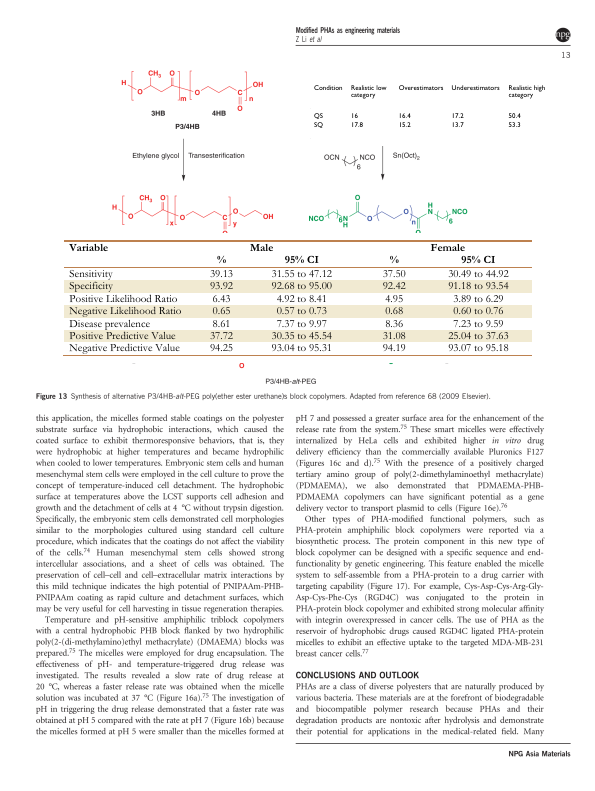borderless: (64, 238, 532, 355), (308, 82, 548, 140)
cell: (68, 306, 182, 318), (68, 343, 180, 355), (68, 293, 178, 305), (68, 331, 176, 343), (68, 318, 150, 330), (270, 269, 332, 281), (447, 269, 509, 281), (270, 281, 332, 293), (447, 281, 509, 293), (270, 331, 332, 343), (447, 331, 509, 343), (270, 343, 332, 355), (447, 343, 509, 355), (507, 84, 546, 100), (275, 293, 327, 305), (452, 293, 504, 305), (275, 306, 327, 318), (452, 306, 504, 318), (275, 318, 327, 330), (452, 318, 504, 330), (349, 84, 387, 100), (68, 269, 113, 281), (68, 281, 113, 293), (450, 84, 500, 93), (397, 84, 444, 93), (68, 242, 109, 252), (429, 242, 465, 252), (283, 255, 319, 264), (460, 255, 496, 264), (208, 269, 233, 281), (381, 269, 406, 281), (208, 281, 233, 293), (381, 281, 406, 293), (208, 331, 233, 343), (381, 331, 406, 343), (208, 343, 233, 355), (381, 343, 406, 355), (313, 84, 343, 93), (248, 242, 274, 252), (211, 293, 231, 305), (211, 306, 231, 318), (211, 318, 231, 330), (384, 293, 403, 305), (384, 306, 403, 318), (384, 318, 403, 330), (397, 112, 411, 121), (450, 112, 464, 121), (507, 112, 521, 121), (349, 121, 363, 130), (397, 121, 411, 130), (450, 121, 464, 130), (507, 121, 521, 130), (215, 255, 226, 264), (388, 255, 399, 264), (313, 112, 323, 121), (313, 121, 323, 130), (349, 112, 358, 121)
